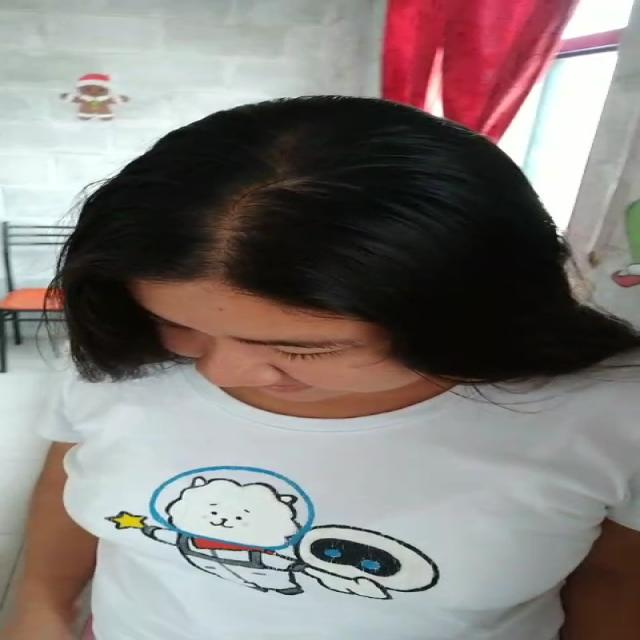9_cabeza_baja: (61, 97, 566, 401)
